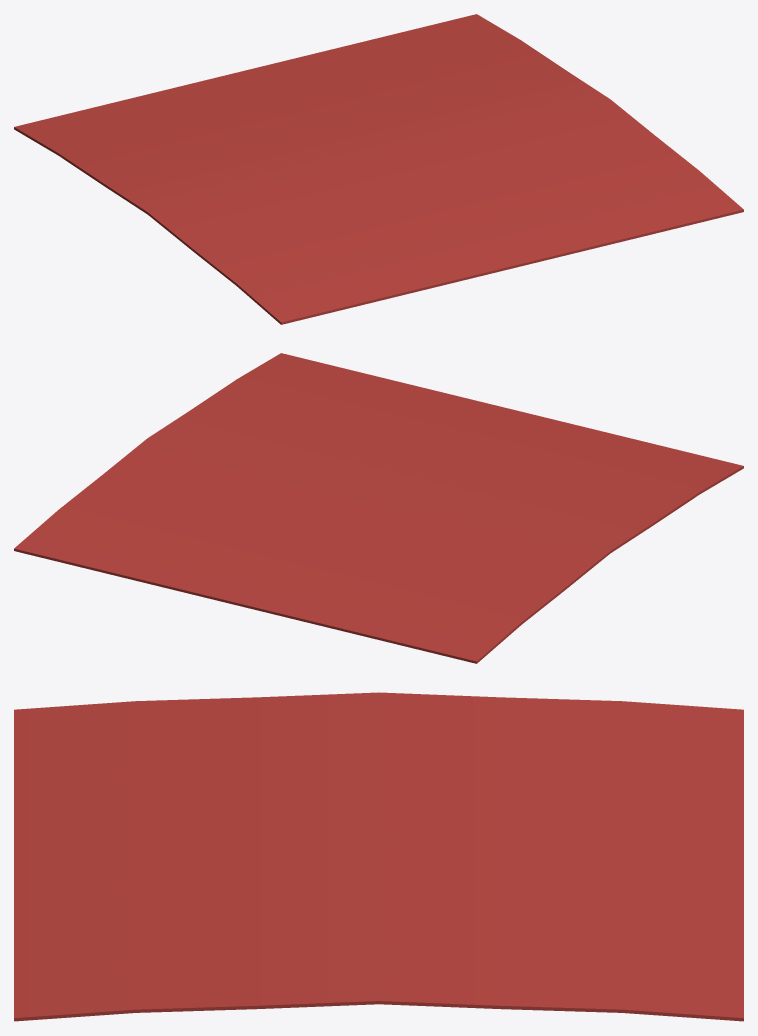
Rendered from plastic_tip_lod1.glb.
3 views of the same model, one above another, from view 1: azimuth 30°, elevation 25°; view 2: azimuth 150°, elevation 25°; view 3: azimuth 270°, elevation 25° (orthographic). The views are drawn at different scales.
Parts seen in each view (by area): view 1: plastic_tip_lod1; view 2: plastic_tip_lod1; view 3: plastic_tip_lod1.
Boxes of the visible parts, box(x1,y1,x2,y2) form: plastic_tip_lod1: box(14, 14, 743, 324); plastic_tip_lod1: box(14, 353, 743, 663); plastic_tip_lod1: box(14, 692, 743, 1021).
Size of the model in its own units: 1 by 0.031 by 1.
